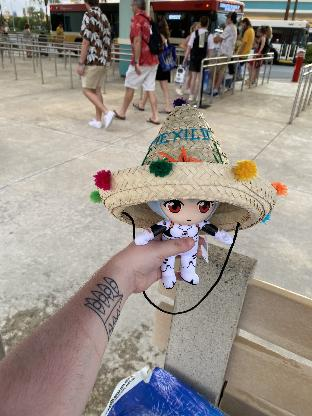rei-plush: (146, 194, 222, 288)
